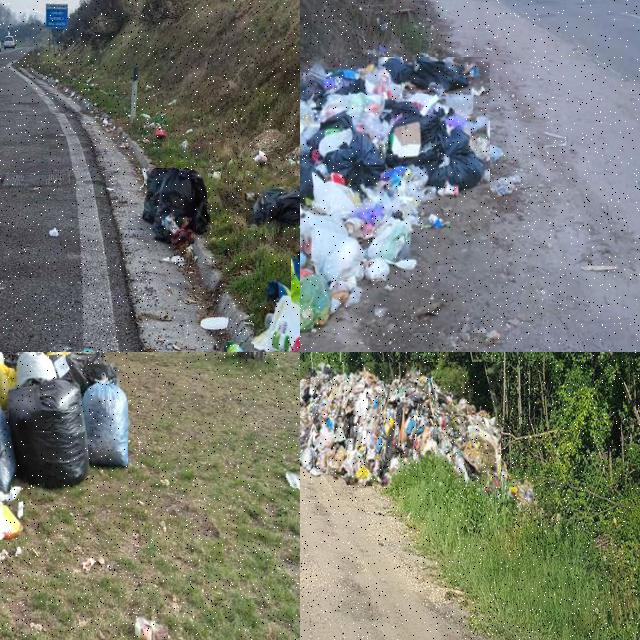lixeira: (300, 57, 493, 336), (300, 363, 504, 491), (0, 352, 131, 507), (145, 169, 209, 246), (255, 281, 299, 351), (246, 176, 299, 230), (0, 499, 25, 542), (133, 615, 170, 639), (508, 479, 535, 504), (284, 472, 299, 490), (225, 343, 254, 351)
